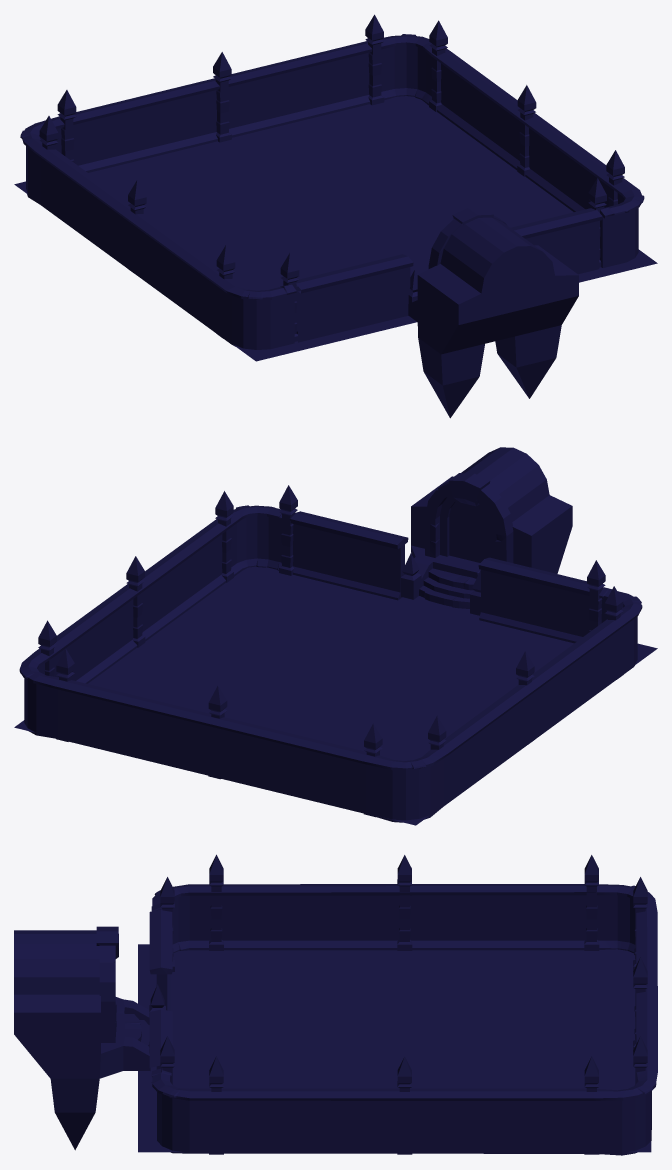
Rendered from level.FBX.
3 views of the same model, one above another, from view 1: azimuth 30°, elevation 25°; view 2: azimuth 150°, elevation 25°; view 3: azimuth 270°, elevation 25° (orthographic). The views are drawn at different scales.
Visible parts, largest first — view 1: bake; view 2: bake; view 3: bake.
Part boxes in pixels (left/top/right/bottom): bake: left=14, top=14, right=657, bottom=418; bake: left=14, top=447, right=657, bottom=825; bake: left=14, top=854, right=657, bottom=1155.
Size of the model in its own units: 32.27 by 13.9 by 40.98.
